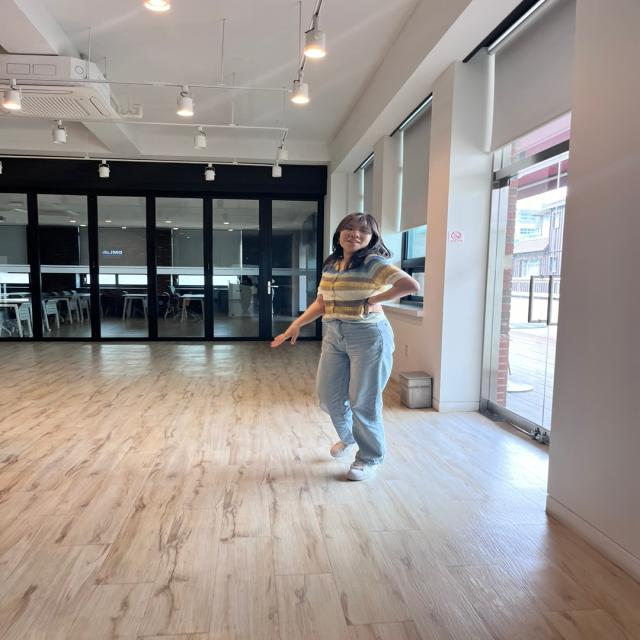not_lay: (274, 213, 417, 480)
